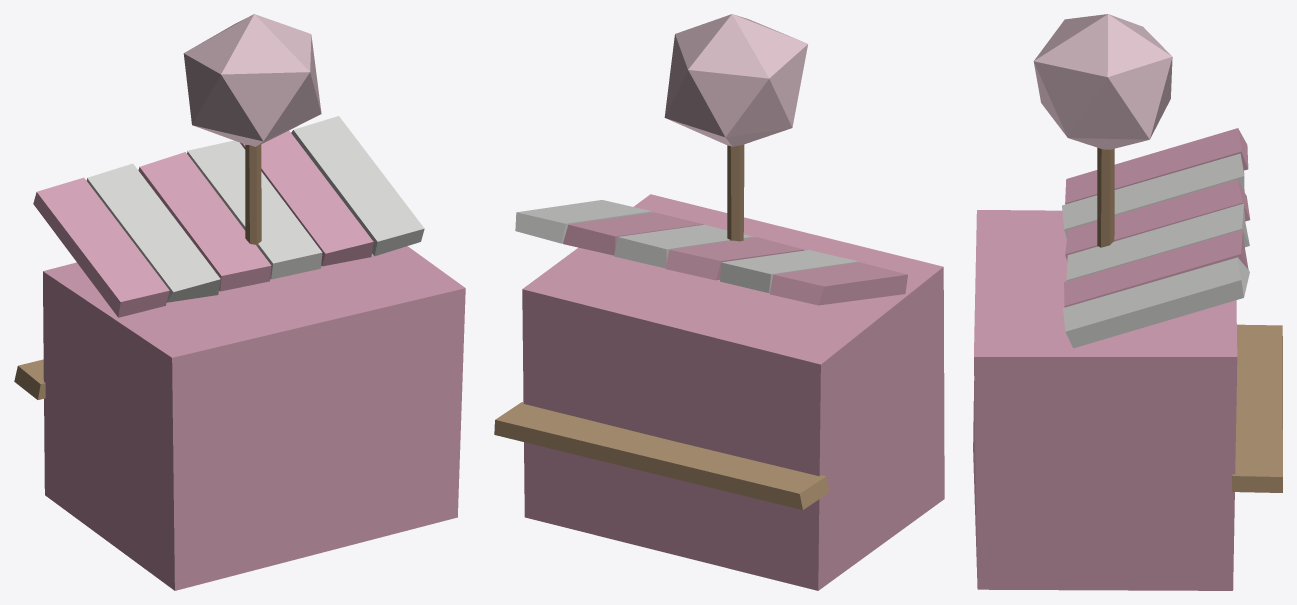
Rendered from cottoncandystall.fbx.
The picture shows the model from 3 angles, left to right: view 1: azimuth 30°, elevation 25°; view 2: azimuth 150°, elevation 25°; view 3: azimuth 270°, elevation 25°; orthographic projection. The views are drawn at different scales.
Visible parts, largest first — view 1: CottonCandyStall; view 2: CottonCandyStall; view 3: CottonCandyStall.
Boxes of the visible parts, x1,y1,x2,y2 form: CottonCandyStall: (14, 14, 465, 590); CottonCandyStall: (494, 14, 944, 590); CottonCandyStall: (973, 14, 1282, 590).
Bounding box in the file's own units: 2.53 × 3.88 × 2.15.
